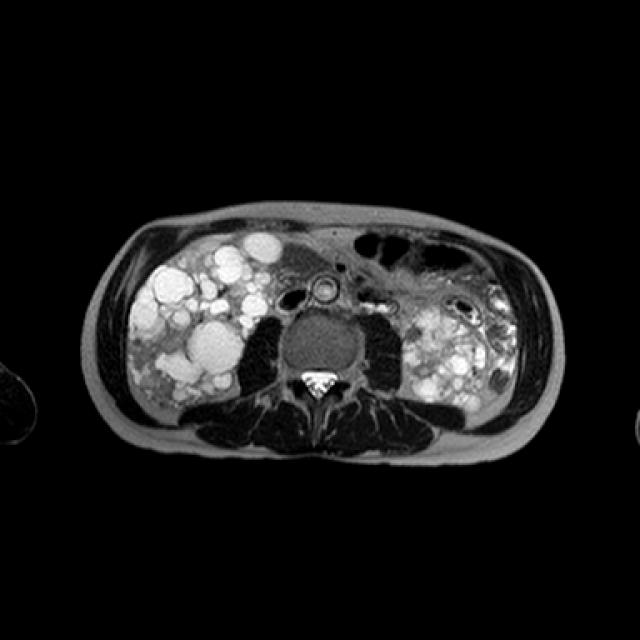sag: (123, 229, 285, 411)
sol: (395, 299, 498, 413)
